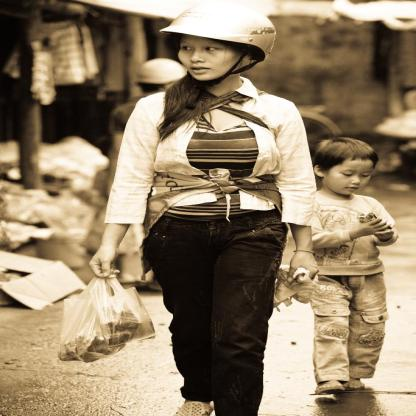Helmet: (165, 3, 274, 78), (133, 56, 187, 86)
